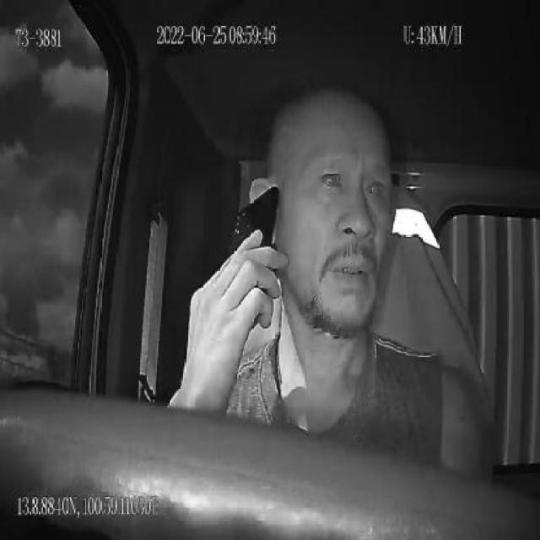phone: (232, 183, 280, 344)
